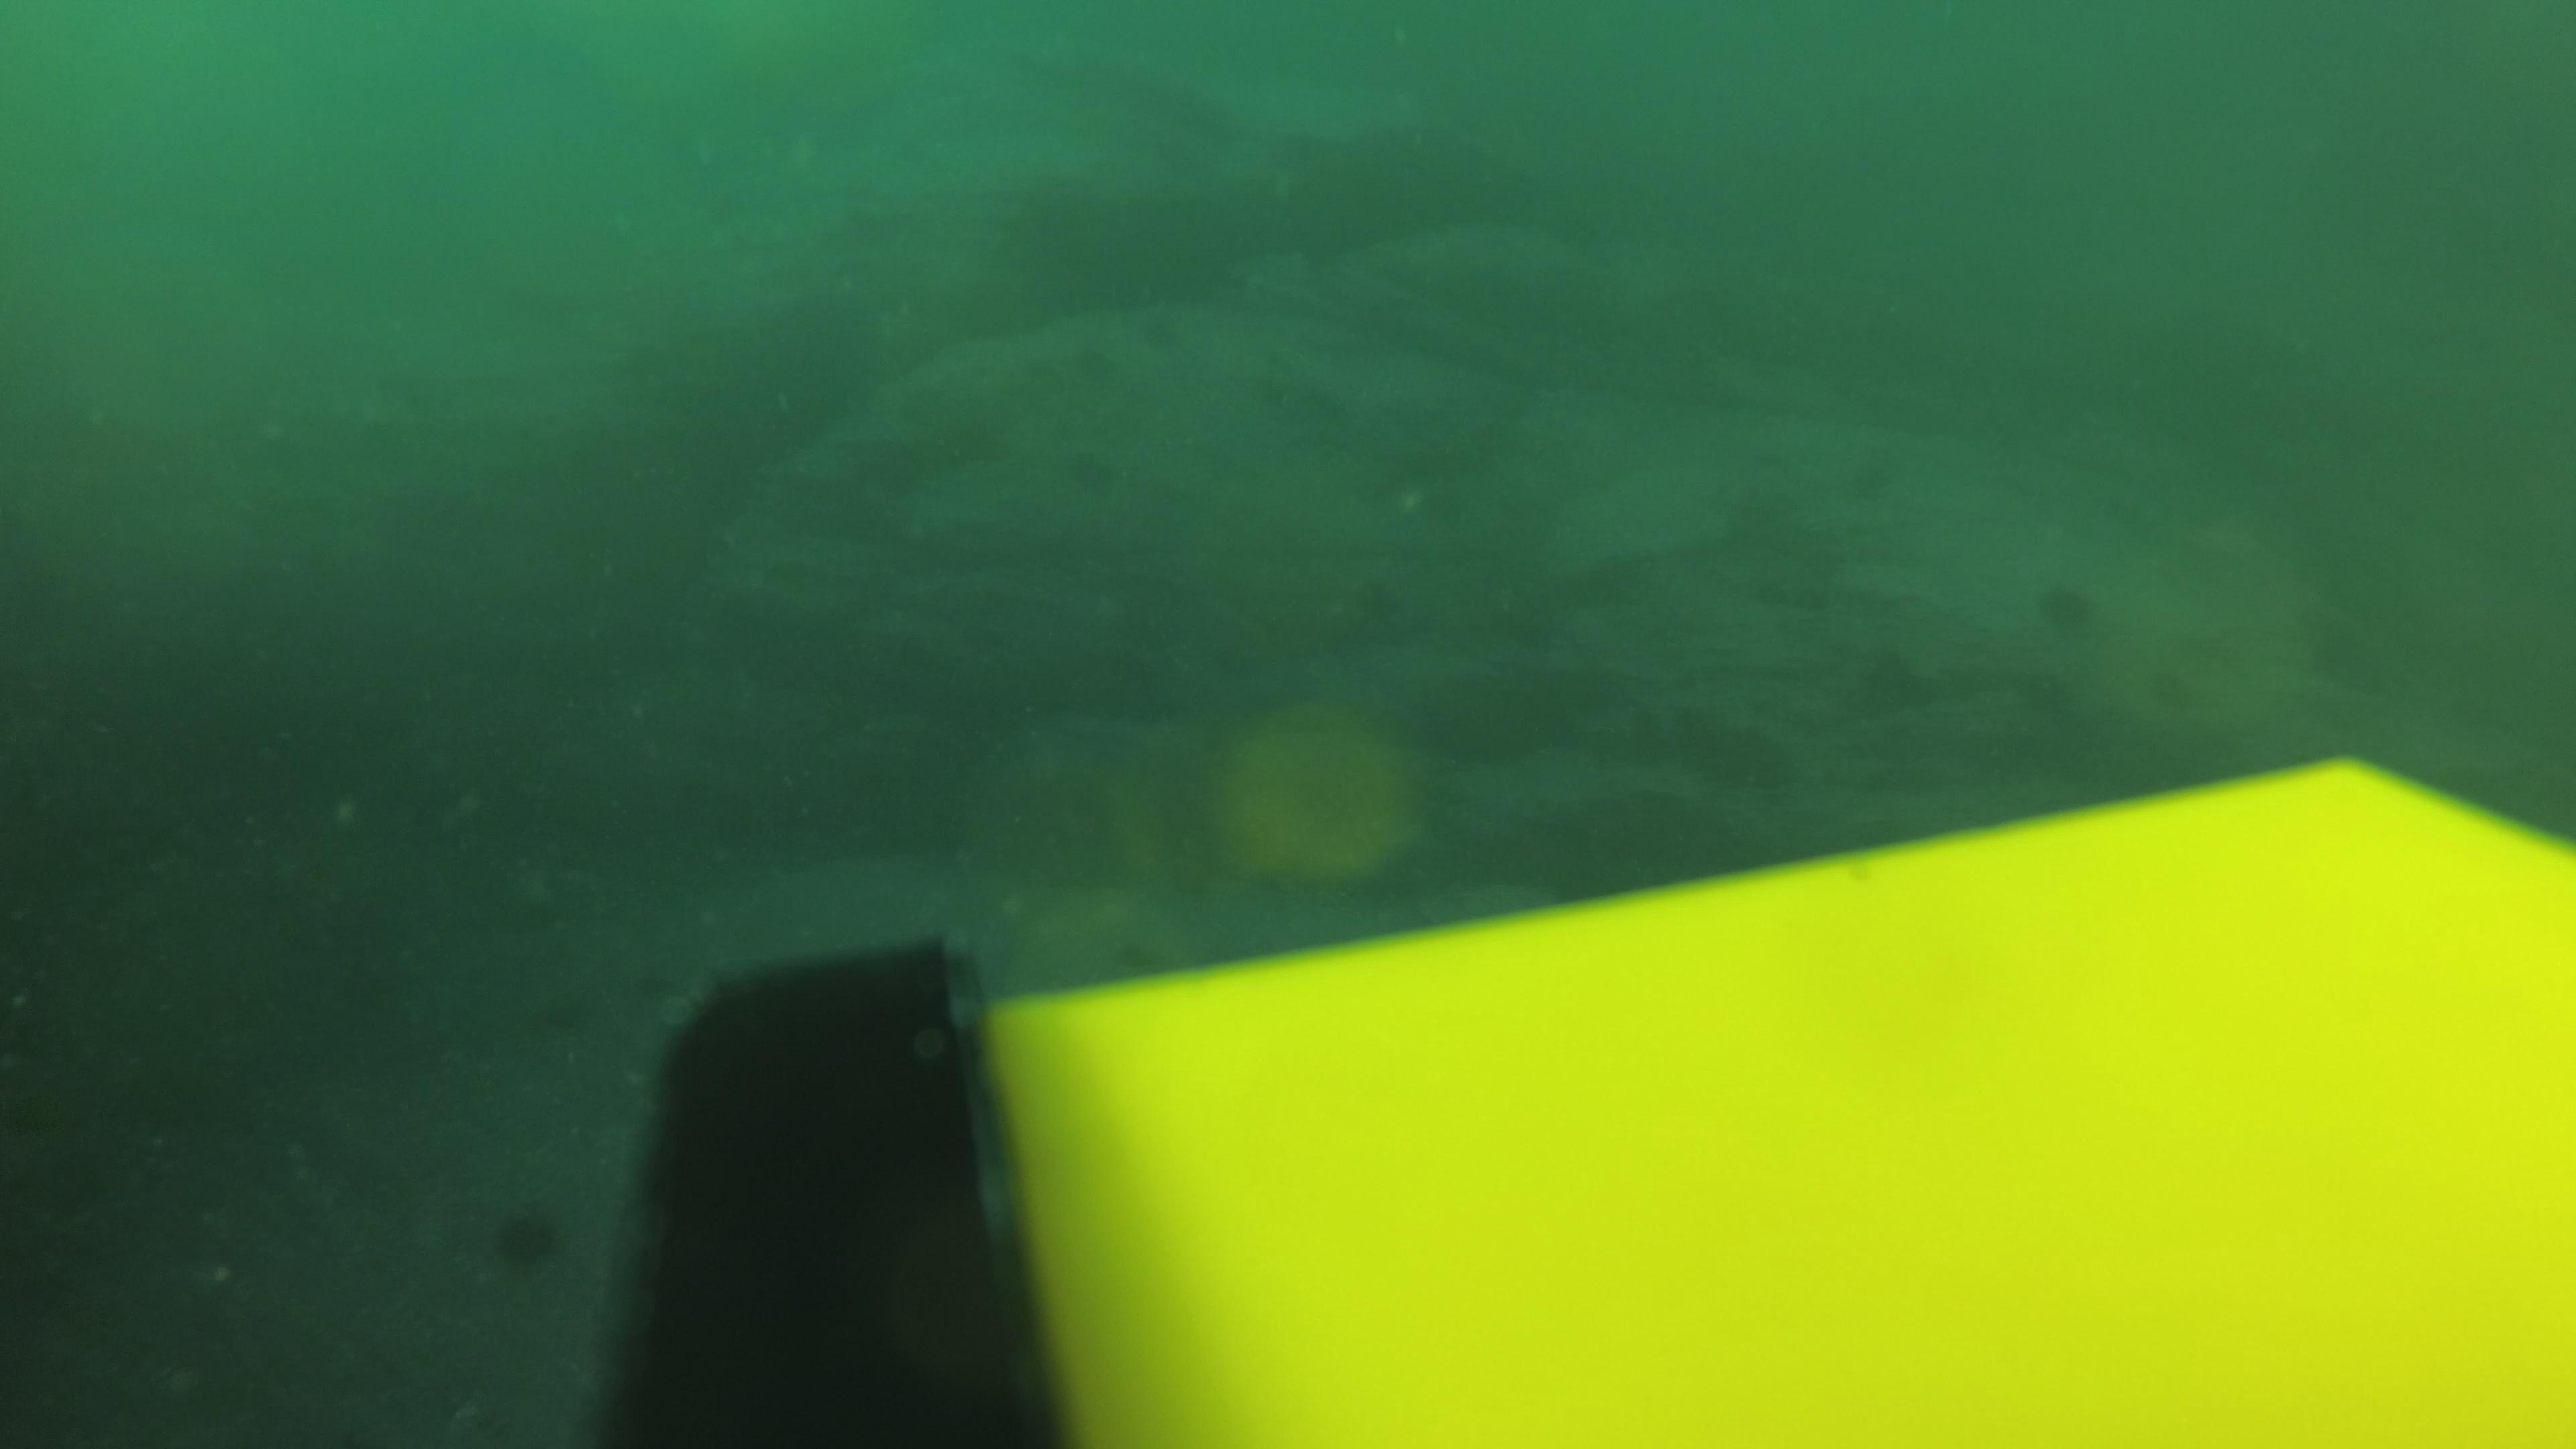echinus: (481, 1196, 573, 1277), (1845, 640, 1936, 718), (2028, 571, 2107, 644), (1844, 442, 1902, 502), (2135, 649, 2192, 709), (2012, 665, 2068, 725), (534, 980, 600, 1030), (616, 961, 679, 1010), (1060, 444, 1116, 499), (1012, 343, 1065, 389), (1129, 310, 1180, 356), (1067, 341, 1118, 386)
